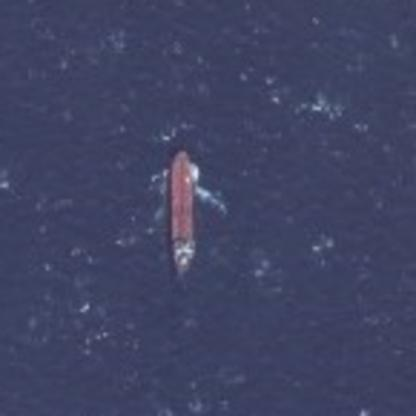ship: (147, 140, 215, 278)
